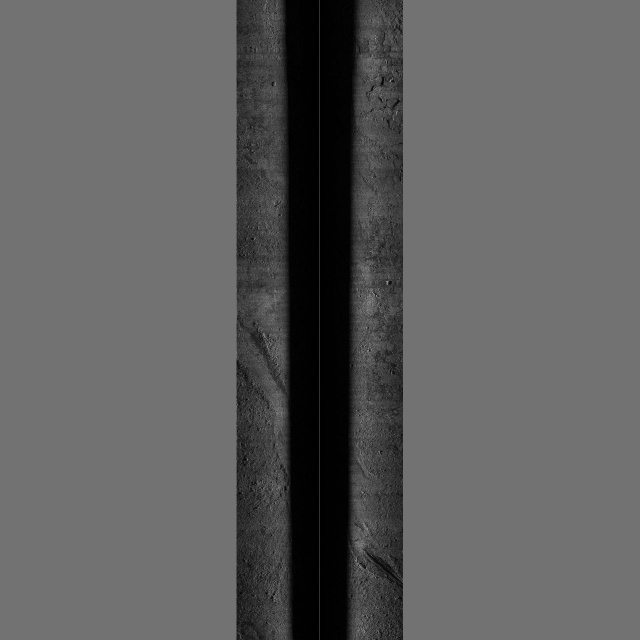Shipwreck: (361, 485, 403, 584)
